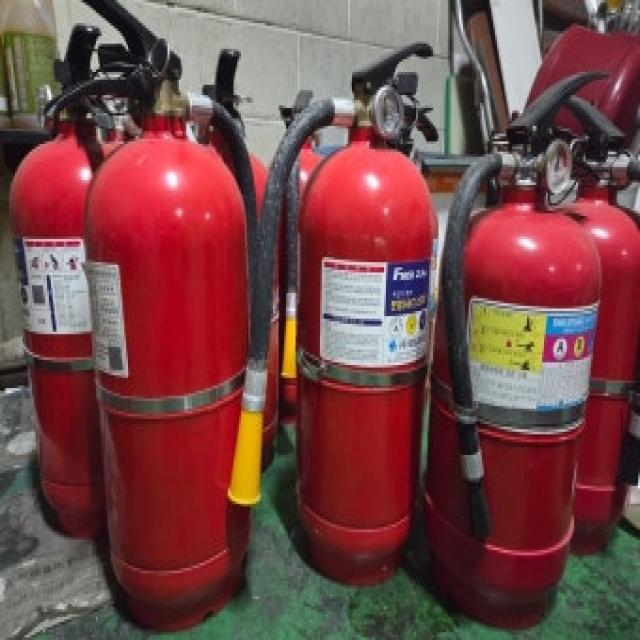pressure gauge: (371, 85, 403, 136), (544, 139, 570, 190)
